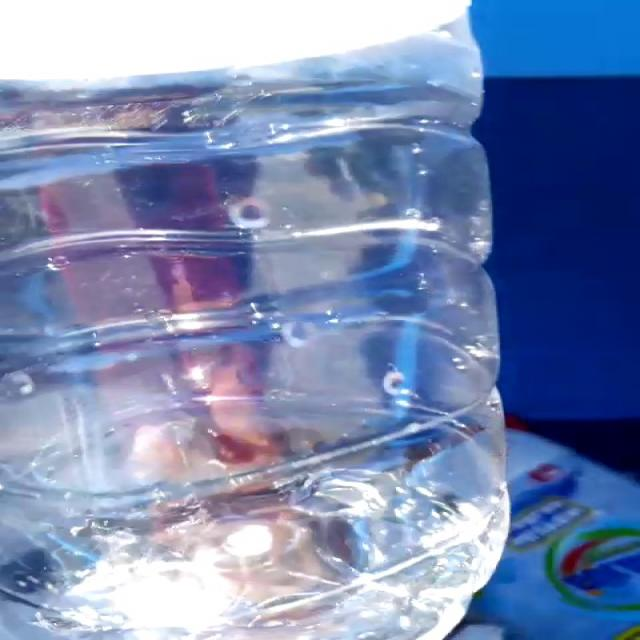plastic: (0, 19, 509, 640), (1, 20, 507, 640)
